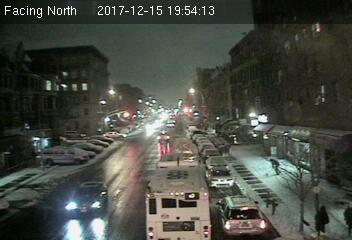bus: (143, 151, 213, 239)
car: (216, 195, 267, 236), (61, 180, 108, 212), (206, 168, 235, 188), (205, 156, 230, 170), (156, 131, 170, 140)
pedestrian: (313, 201, 333, 239), (266, 156, 282, 178)
